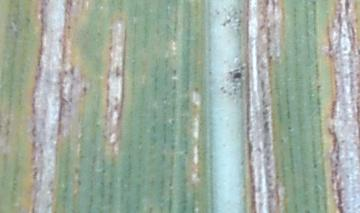tarspot: (343, 1, 351, 17), (231, 71, 242, 80), (221, 18, 232, 27), (112, 102, 120, 113), (114, 65, 121, 77), (69, 65, 76, 76), (171, 69, 178, 79), (301, 206, 310, 213), (286, 125, 293, 133), (65, 23, 72, 30), (82, 85, 88, 93), (113, 95, 119, 102), (107, 44, 113, 51)
